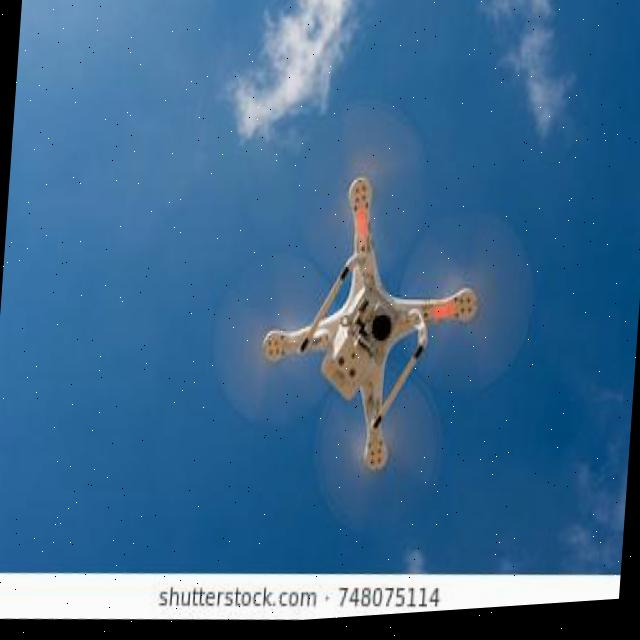drone: (184, 61, 565, 573)
